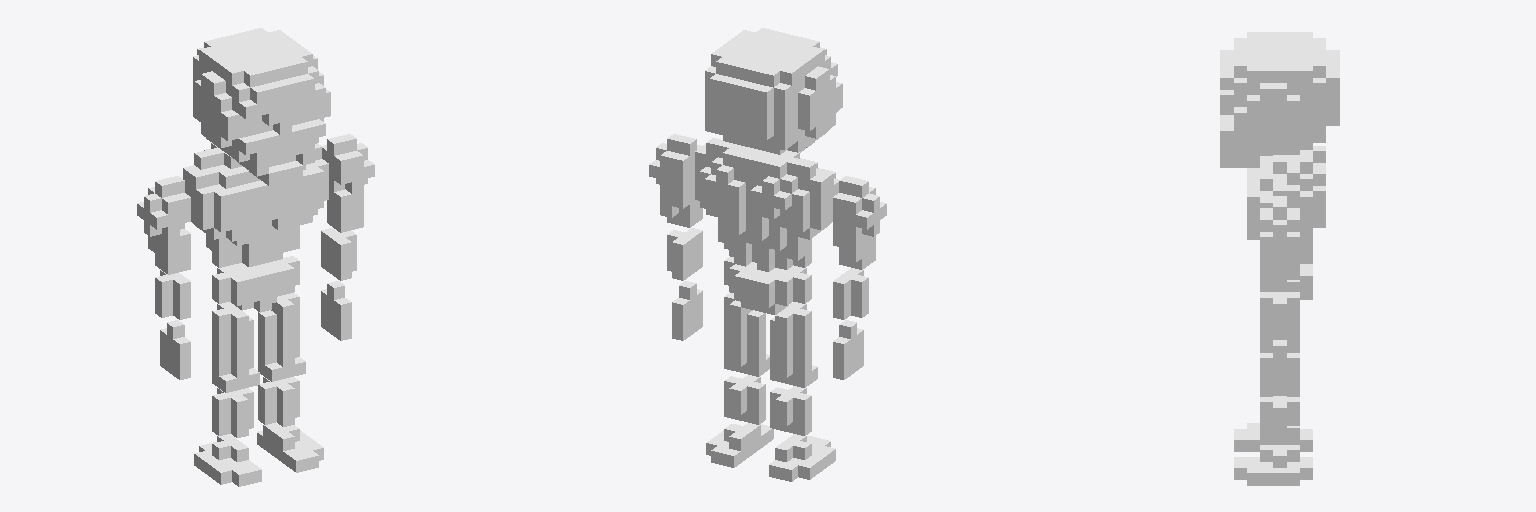
Rendered from Zombie+Luchador-0.obj.
3 views of the same model, side by side, from view 1: azimuth 30°, elevation 25°; view 2: azimuth 150°, elevation 25°; view 3: azimuth 270°, elevation 25° (orthographic).
Parts seen in each view (by area): view 1: object 1; view 2: object 1; view 3: object 1.
Part boxes in pixels (left/top/right/bottom): object 1: left=137, top=28, right=374, bottom=486; object 1: left=649, top=28, right=886, bottom=481; object 1: left=1220, top=32, right=1339, bottom=485.
Bounding box in the file's own units: 1.9 × 3.4 × 0.9.